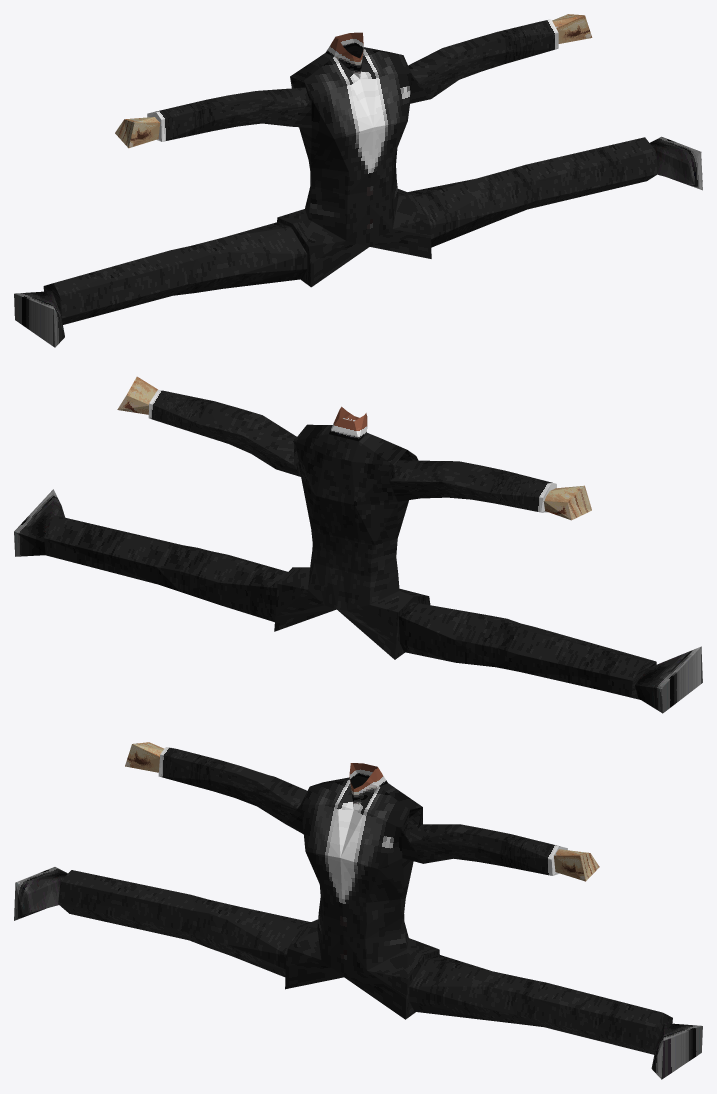
The model's file is Ducking walk (repeat).obj.
3 views of the same model, one above another, from view 1: azimuth 30°, elevation 25°; view 2: azimuth 150°, elevation 25°; view 3: azimuth 330°, elevation 25° (orthographic).
Parts seen in each view (by area): view 1: Room0F_primary, Room06_primary, Room05_primary, Room03_primary, Room02_primary, Room07_primary, Room0B_primary, Room0E_primary, Room0D_primary, Room0A_primary, Room04_primary, Room01_primary (+3 smaller); view 2: Room0F_primary, Room06_primary, Room03_primary, Room05_primary, Room02_primary, Room07_primary, Room0E_primary, Room0B_primary, Room0A_primary, Room04_primary, Room0D_primary, Room01_primary (+3 smaller); view 3: Room0F_primary, Room03_primary, Room02_primary, Room06_primary, Room05_primary, Room07_primary, Room0B_primary, Room0E_primary, Room0A_primary, Room0D_primary, Room01_primary, Room04_primary (+3 smaller).
Boxes of the visible parts, x1,y1,x2,y2 form: Room0F_primary: [290, 45, 411, 194]; Room06_primary: [191, 209, 369, 292]; Room05_primary: [43, 246, 214, 324]; Room03_primary: [370, 170, 510, 258]; Room02_primary: [507, 137, 658, 216]; Room07_primary: [305, 166, 398, 246]; Room0B_primary: [408, 38, 482, 103]; Room0E_primary: [229, 76, 311, 127]; Room0D_primary: [147, 95, 238, 141]; Room0A_primary: [474, 19, 558, 71]; Room04_primary: [14, 291, 64, 347]; Room01_primary: [650, 136, 702, 190]; Room0F_primary: [294, 424, 408, 561]; Room06_primary: [337, 588, 507, 667]; Room03_primary: [180, 548, 336, 631]; Room05_primary: [496, 619, 656, 699]; Room02_primary: [44, 515, 209, 591]; Room07_primary: [308, 544, 399, 610]; Room0E_primary: [389, 450, 480, 501]; Room0B_primary: [221, 408, 300, 476]; Room0A_primary: [148, 389, 237, 443]; Room04_primary: [635, 646, 702, 713]; Room0D_primary: [465, 465, 556, 512]; Room01_primary: [14, 489, 65, 556]; Room0F_primary: [301, 776, 422, 924]; Room03_primary: [344, 938, 525, 1024]; Room02_primary: [502, 978, 672, 1054]; Room06_primary: [205, 899, 343, 989]; Room05_primary: [58, 870, 209, 947]; Room07_primary: [317, 898, 408, 977]; Room0B_primary: [401, 807, 485, 863]; Room0E_primary: [234, 766, 307, 833]; Room0A_primary: [477, 829, 567, 875]; Room0D_primary: [158, 747, 242, 797]; Room01_primary: [651, 1023, 702, 1079]; Room04_primary: [14, 867, 67, 920].
Bounding box in the file's own units: 2266 × 750 × 275.
Materials: 12 (12 with a texture image).
